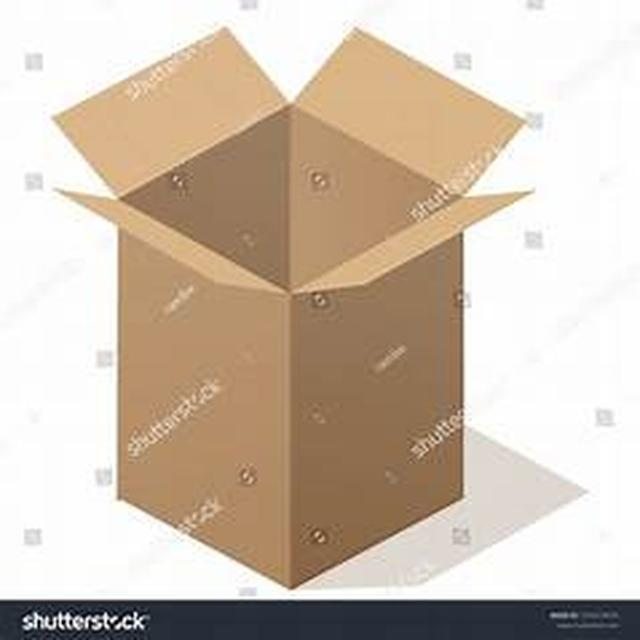box: (46, 31, 552, 584)
